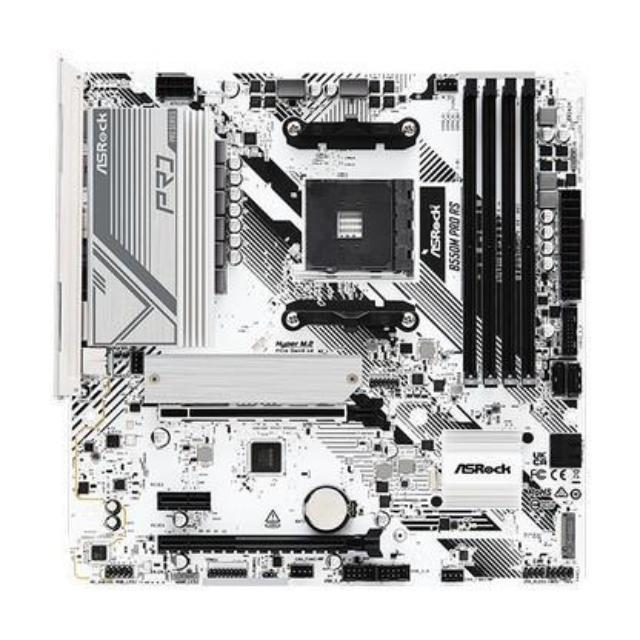Mainboard: (48, 51, 592, 589)
